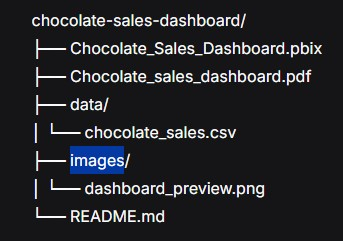

The dashboard page shown, as its layout file describes it:
{"tool":"powerbi","page":{"name":"Page 1","canvas":[1280,720],"ordinal":0},"visuals":[{"type":"barChart","title":"Revenue Rank","fields":{"Category":["chocolate_sales_2025_dataset.Product_Type"],"Y":["chocolate_sales_2025_dataset.Rank_by_revenue"]},"box":[900.9,36.2,342.2,242.2],"z":0},{"type":"pieChart","title":"Average Revenue","fields":{"Category":["chocolate_sales_2025_dataset.Product_Type"],"Y":["chocolate_sales_2025_dataset.Sum of Revenue_USD average per Product_Type"]},"box":[640.5,148.3,240.5,172.4],"z":1000},{"type":"cardVisual","title":"By Product Type","fields":{"Data":["chocolate_sales_2025_dataset.Average_Revenue","chocolate_sales_2025_dataset.Total_Revenue","chocolate_sales_2025_dataset.Min_revenue","chocolate_sales_2025_dataset.Max_revenue"]},"box":[122.4,39.7,613.8,100],"z":2000},{"type":"textbox","title":"Chocolate Sales 2025","box":[0,0,1280.2,28.4],"z":3000},{"type":"pieChart","title":"Revenue Level(AMT)","fields":{"Category":["chocolate_sales_2025_dataset.Reevenue_Segment"],"Y":["Sum(chocolate_sales_2025_dataset.Revenue_USD)"]},"box":[0,331,298.3,203.4],"z":4000},{"type":"pieChart","title":"Country RFM","fields":{"Category":["chocolate_sales_2025_dataset.Country"],"Y":["chocolate_sales_2025_dataset.Total_Revenue"]},"box":[604.3,527.6,235.3,183.6],"z":5000},{"type":"hundredPercentStackedColumnChart","title":"Revenue Breakdown: Segment vs Product Type","fields":{"Category":["chocolate_sales_2025_dataset.Revenue_Segment"],"Series":["chocolate_sales_2025_dataset.Product_Type"],"Y":["chocolate_sales_2025_dataset.Total_Revenue YTD"]},"box":[312.1,331,292.2,203.4],"z":6000},{"type":"hundredPercentStackedColumnChart","title":"Revenue Breakdown: Segment vs  Sales Channel","fields":{"Category":["chocolate_sales_2025_dataset.Revenue_Segment"],"Series":["chocolate_sales_2025_dataset.Sales_Channel"],"Y":["chocolate_sales_2025_dataset.Total_Revenue YTD"]},"box":[0,543.1,292.2,168.1],"z":7000},{"type":"hundredPercentStackedColumnChart","title":"Revenue Breakdown: Segment vs  Brand","fields":{"Category":["chocolate_sales_2025_dataset.Revenue_Segment"],"Series":["chocolate_sales_2025_dataset.Brand"],"Y":["chocolate_sales_2025_dataset.Total_Revenue YTD"]},"box":[301.7,543.1,292.2,168.1],"z":8000},{"type":"barChart","title":"Revenue by Country and Product Type","fields":{"Category":["chocolate_sales_2025_dataset.Country"],"Y":["chocolate_sales_2025_dataset.Total_Revenue YTD"],"Series":["chocolate_sales_2025_dataset.Product_Type"]},"box":[848.3,527.6,332.8,187.9],"z":9000},{"type":"slicer","title":"Year","fields":{"Values":["chocolate_sales_2025_dataset.Date.Variation.Date Hierarchy.Year","chocolate_sales_2025_dataset.Date.Variation.Date Hierarchy.Quarter","chocolate_sales_2025_dataset.Date.Variation.Date Hierarchy.Month"]},"box":[0,180.2,106.9,62.1],"z":10000},{"type":"pieChart","title":"Total Revenue By Channel","fields":{"Category":["chocolate_sales_2025_dataset.Sales_Channel"],"Y":["chocolate_sales_2025_dataset.Total_Revenue YTD"]},"box":[626.7,331,287.1,185.3],"z":11000},{"type":"slicer","title":"Country","fields":{"Values":["chocolate_sales_2025_dataset.Country"]},"box":[0,62.1,106.9,54.3],"z":12000},{"type":"slicer","title":"Channel","fields":{"Values":["chocolate_sales_2025_dataset.Sales_Channel"]},"box":[0,120.7,106.9,54.3],"z":13000},{"type":"slicer","title":"Brand","fields":{"Values":["chocolate_sales_2025_dataset.Brand"]},"box":[0,250.9,106.9,54.3],"z":14000},{"type":"funnel","title":"Revenue by Brand","fields":{"Category":["chocolate_sales_2025_dataset.Brand"],"Y":["chocolate_sales_2025_dataset.Total_Revenue"]},"box":[122.4,148.3,223.3,172.4],"z":15000},{"type":"hundredPercentStackedColumnChart","title":"Revenue Breakdown: Segment vs Payement Method","fields":{"Y":["chocolate_sales_2025_dataset.Total_Revenue YTD"],"Series":["chocolate_sales_2025_dataset.Payment_Method"],"Category":["chocolate_sales_2025_dataset.Revenue_Segment"]},"box":[364.7,139.7,253.4,181],"z":16000},{"type":"funnel","title":"Revenue BreakDown:By Country Segemnt","fields":{"Y":["Sum(chocolate_sales_2025_dataset.Revenue_USD)"],"Category":["chocolate_sales_2025_dataset.Country"]},"box":[925.9,331,329.3,185.3],"z":17000}]}

Visuals, with their boxes in screenshot pixels (x1, y1, x2, y2):
"Revenue Rank" barChart: l=250, t=53, r=342, b=119
"Average Revenue" pieChart: l=178, t=84, r=244, b=131
"By Product Type" cardVisual: l=36, t=54, r=204, b=81
"Chocolate Sales 2025" textbox: l=3, t=43, r=342, b=51
"Revenue Level(AMT)" pieChart: l=3, t=134, r=84, b=189
"Country RFM" pieChart: l=168, t=187, r=233, b=238
"Revenue Breakdown: Segment vs Product Type" hundredPercentStackedColumnChart: l=88, t=134, r=168, b=189
"Revenue Breakdown: Segment vs  Sales Channel" hundredPercentStackedColumnChart: l=3, t=192, r=83, b=238
"Revenue Breakdown: Segment vs  Brand" hundredPercentStackedColumnChart: l=85, t=192, r=165, b=238
"Revenue by Country and Product Type" barChart: l=235, t=187, r=326, b=239
"Year" slicer: l=3, t=92, r=32, b=109
"Total Revenue By Channel" pieChart: l=174, t=134, r=253, b=184
"Country" slicer: l=3, t=60, r=32, b=75
"Channel" slicer: l=3, t=76, r=32, b=91
"Brand" slicer: l=3, t=112, r=32, b=126
"Revenue by Brand" funnel: l=36, t=84, r=97, b=131
"Revenue Breakdown: Segment vs Payement Method" hundredPercentStackedColumnChart: l=103, t=81, r=172, b=131
"Revenue BreakDown:By Country Segemnt" funnel: l=256, t=134, r=342, b=184
